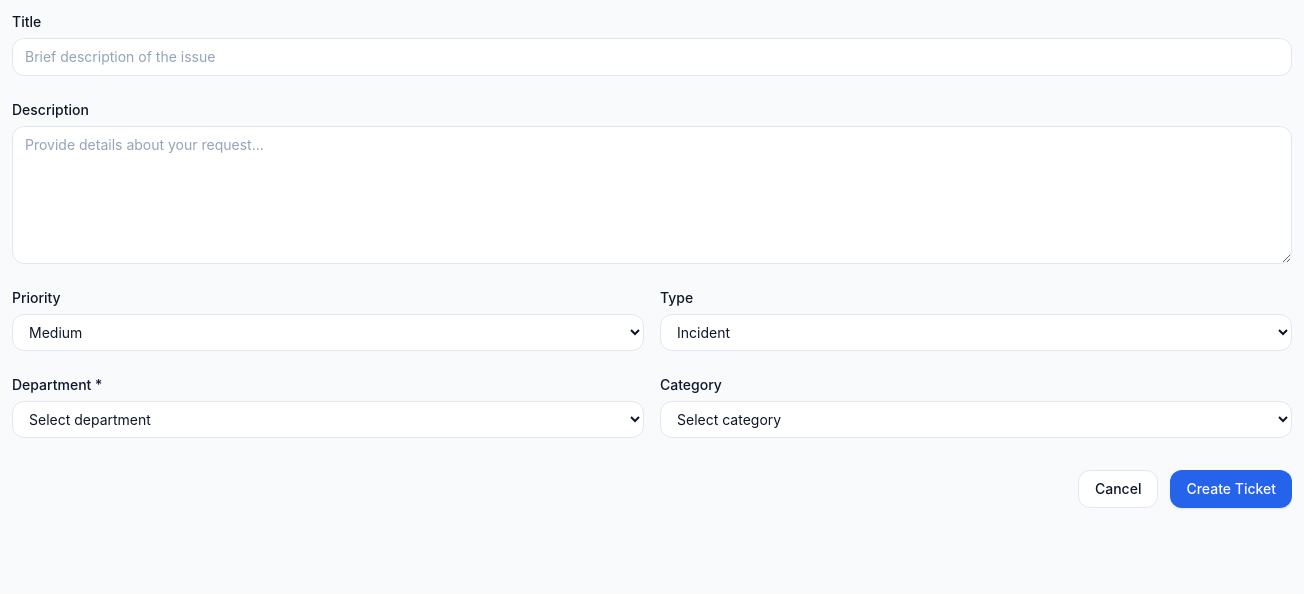
Test: Part 5: Ticket Creation Form › displays network error
Type "T" into the field labelled "Title" at (652, 57), box [12, 38, 1292, 76]
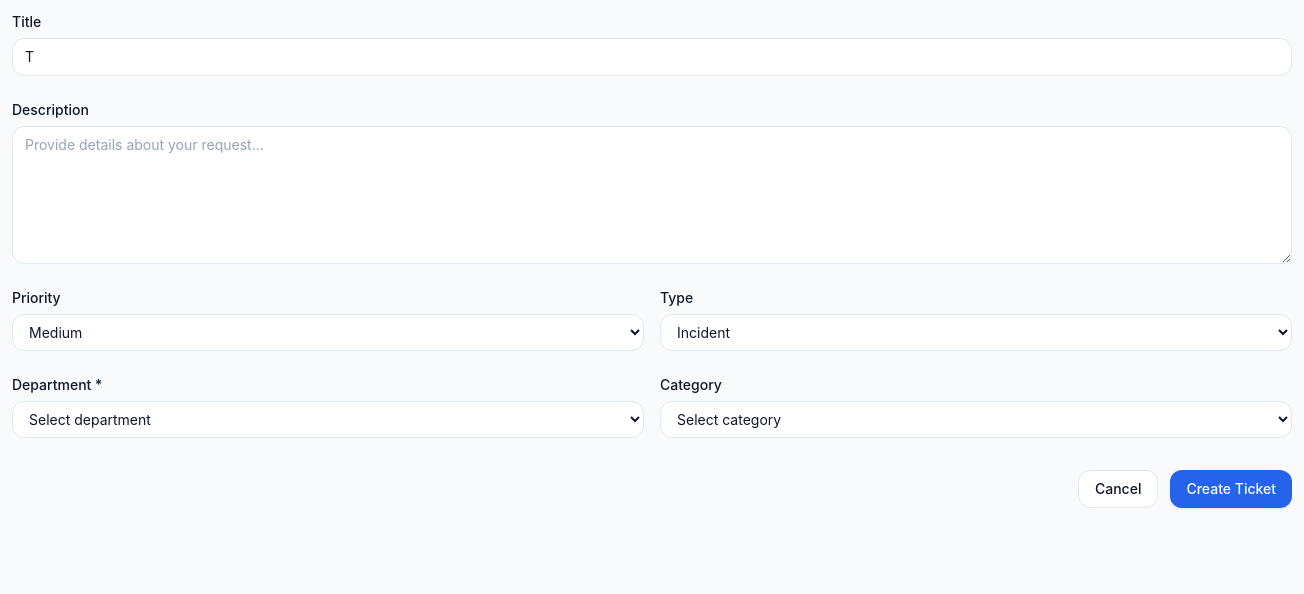
Type "D" into the text box with placeholder "Provide details about your request..." at (652, 195), box [12, 126, 1292, 264]
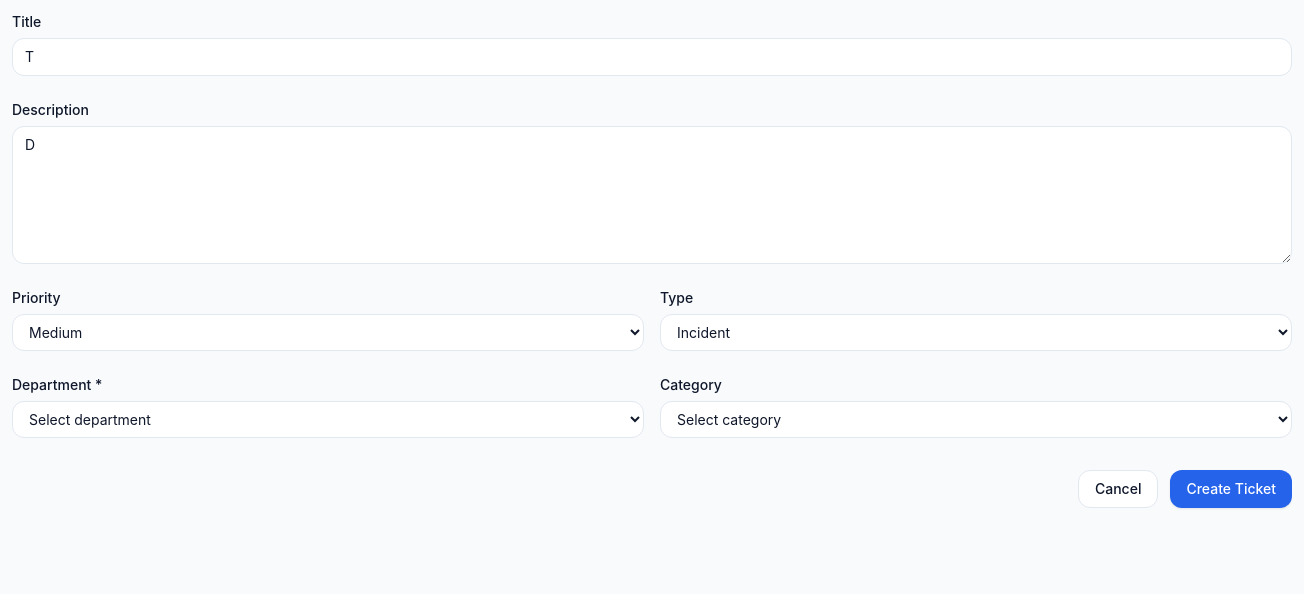
Select "Engineering" in the dropdown below "Department *" at (328, 420), box [12, 401, 644, 438]
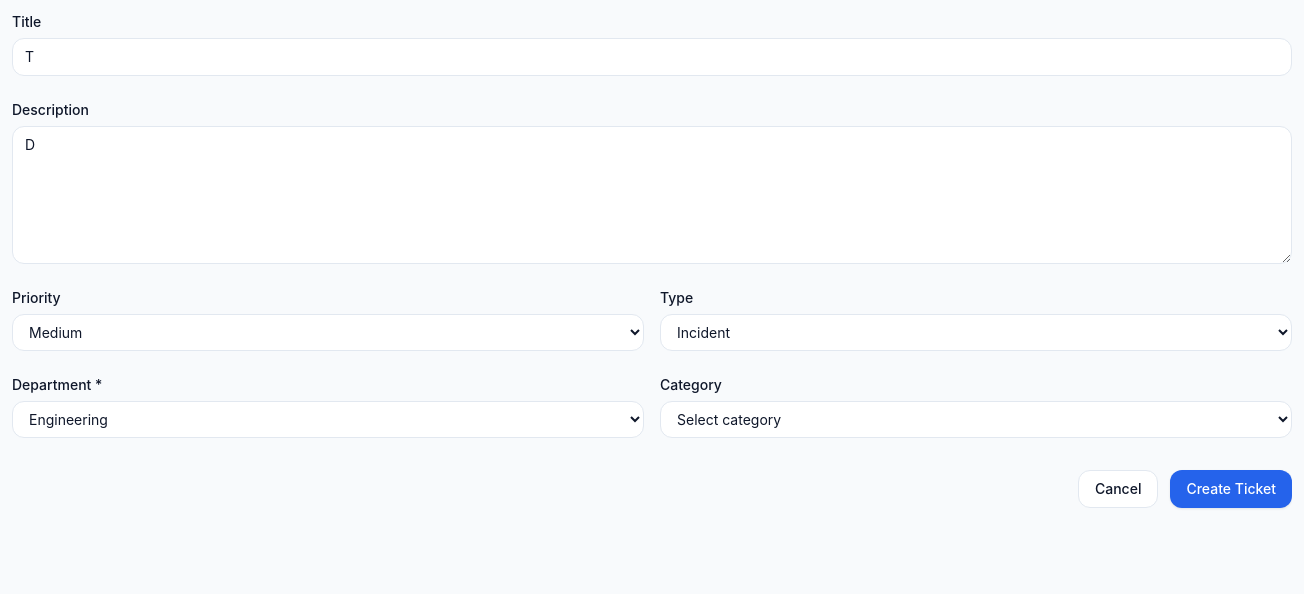
Click the button "Create Ticket" at (1231, 489), box [1170, 470, 1292, 508]
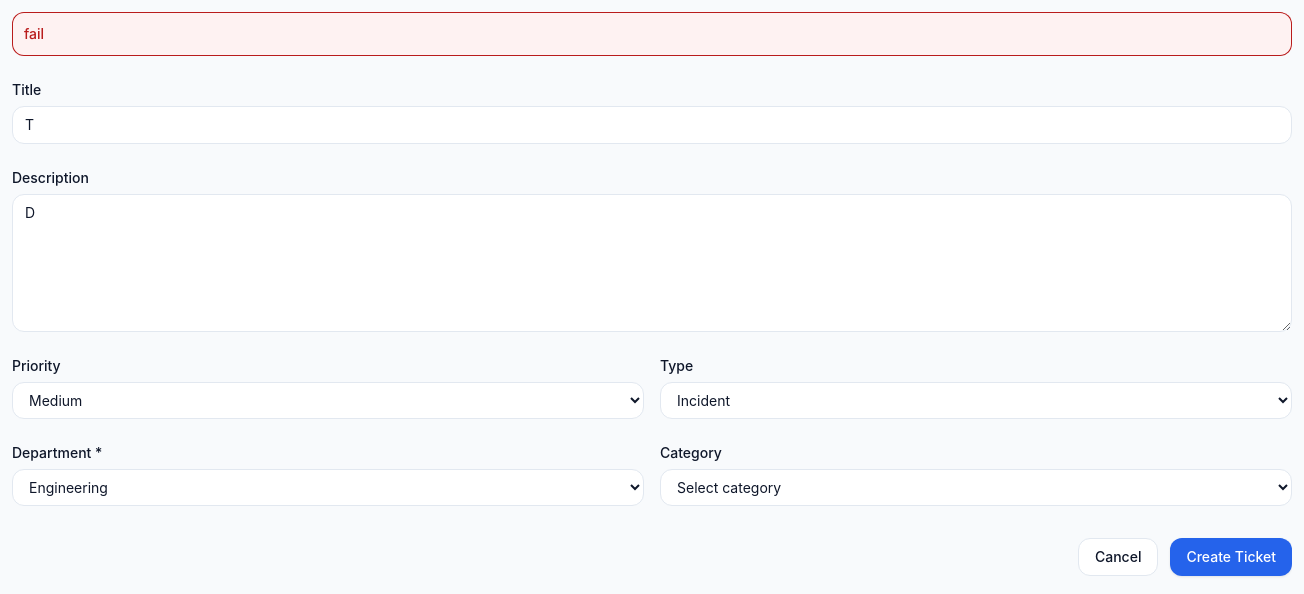
Now the text "fail" is shown, box [12, 12, 1292, 56]
